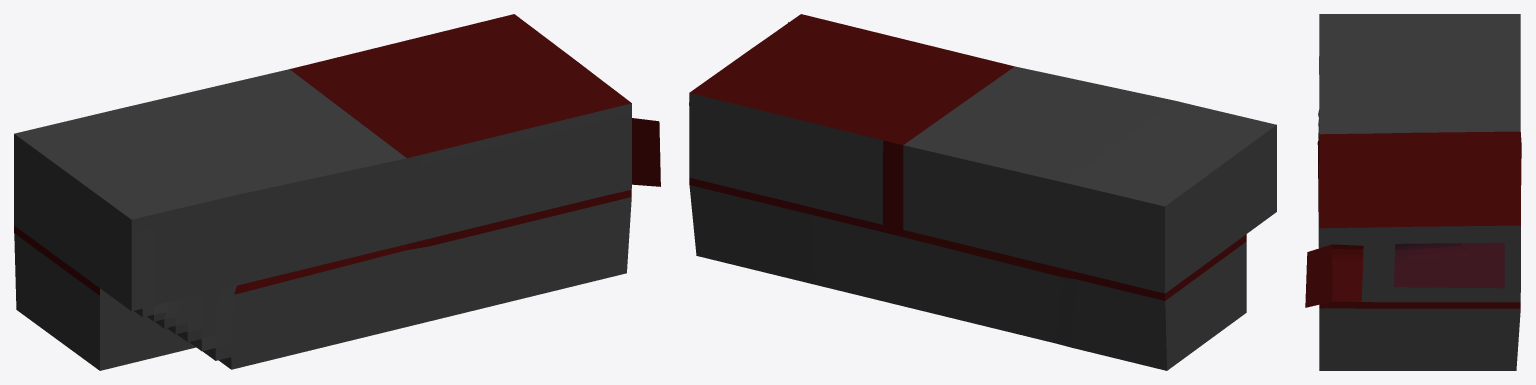
Rendered from map_layout.fbx.
3 renders of one model, left to right at view 1: azimuth 30°, elevation 25°; view 2: azimuth 150°, elevation 25°; view 3: azimuth 270°, elevation 25°, orthographic. The views are drawn at different scales.
Parts seen in each view (by area): view 1: Plane; view 2: Plane; view 3: Plane.
Boxes of the visible parts, x1,y1,x2,y2 form: Plane: [14, 14, 660, 370]; Plane: [689, 14, 1276, 370]; Plane: [1305, 14, 1521, 370].
Size of the model in its own units: 1776 by 568 by 744.
